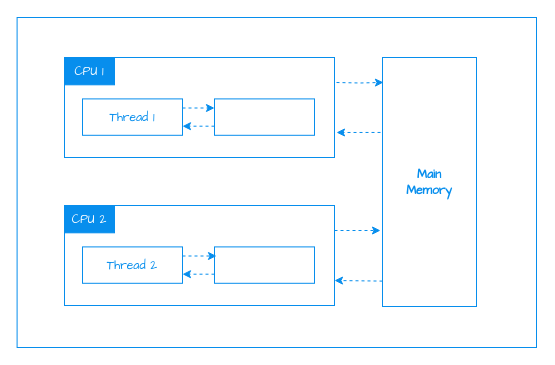
Image size: 555x365. Some labels were removed from this diagram. The shapes that lost their labels are listed below. From the top down, each one's box as (x1, y1, x2, y2) in pixels, then its label:
(214, 98, 314, 135): CPU 1 cache
(214, 246, 314, 283): CPU 2 cache
